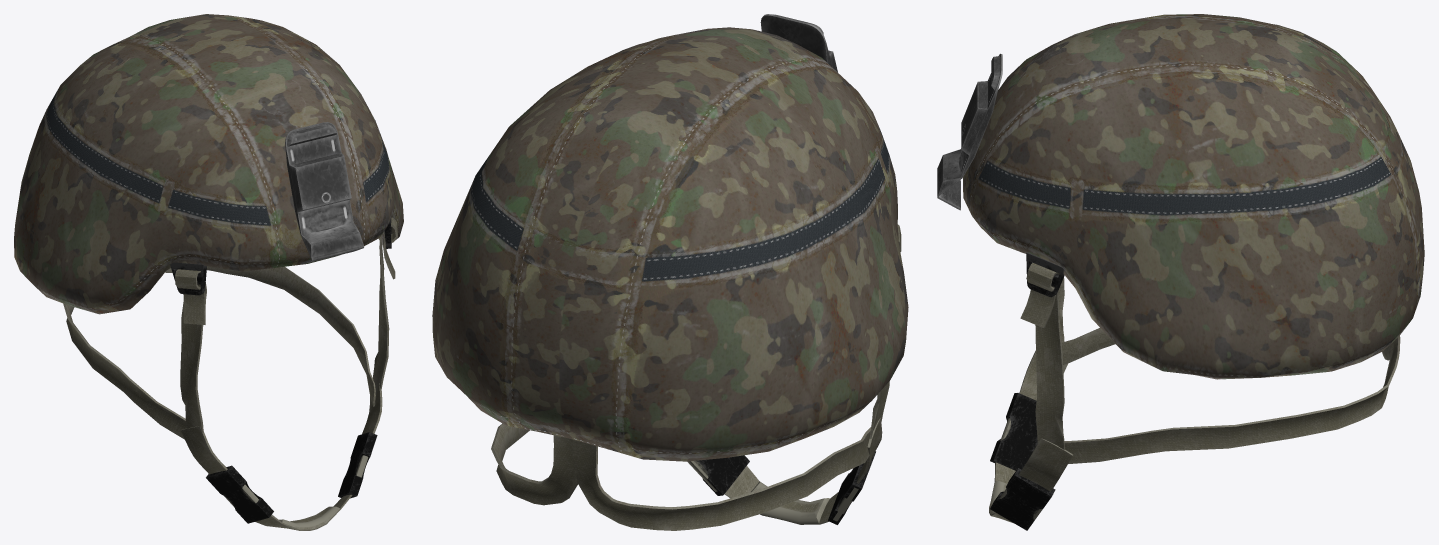
File: Military_helmet.fbx
3 views of the same model, side by side, from view 1: azimuth 30°, elevation 25°; view 2: azimuth 150°, elevation 25°; view 3: azimuth 270°, elevation 25° (orthographic). The views are drawn at different scales.
Parts seen in each view (by area): view 1: Military_helmet; view 2: Military_helmet; view 3: Military_helmet.
Boxes of the visible parts, x1,y1,x2,y2 form: Military_helmet: (14, 14, 403, 530); Military_helmet: (432, 14, 908, 530); Military_helmet: (937, 14, 1424, 530).
Bounding box in the file's own units: 165 × 200 × 183.
Materials: 1 (1 with a texture image).
